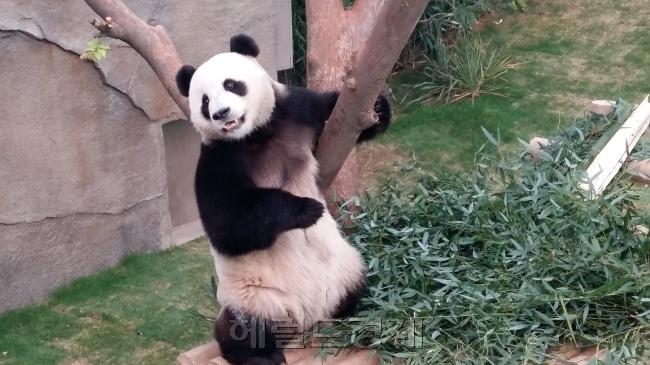panda: (167, 31, 404, 365)
